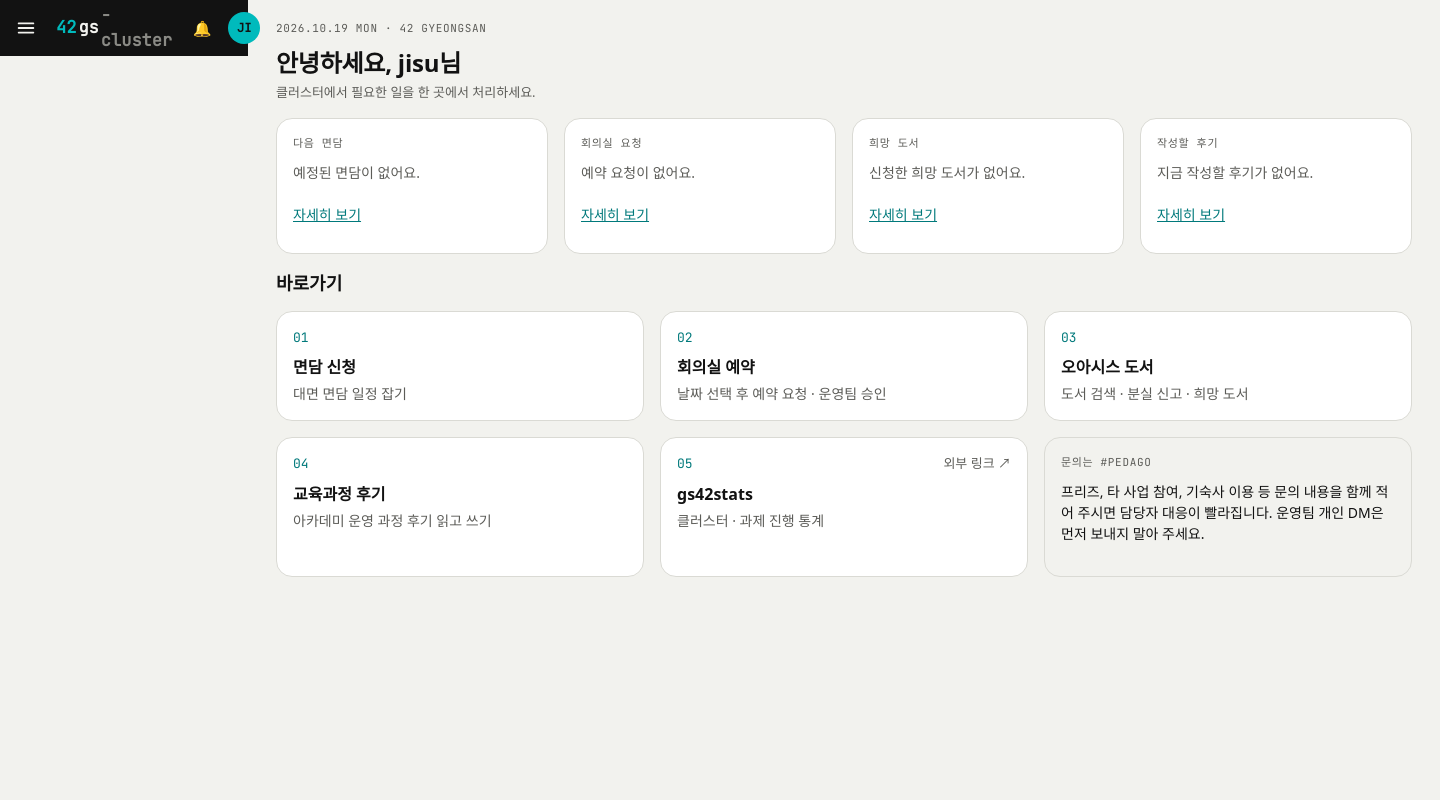
Test: 레이아웃: 모바일(≤900px) › 메뉴 버튼으로 드로어를 열고, 항목을 누르면 이동하며 닫힌다
Step 1. Click the button named "메뉴 열기" → (26, 28), box [4,6,48,50]
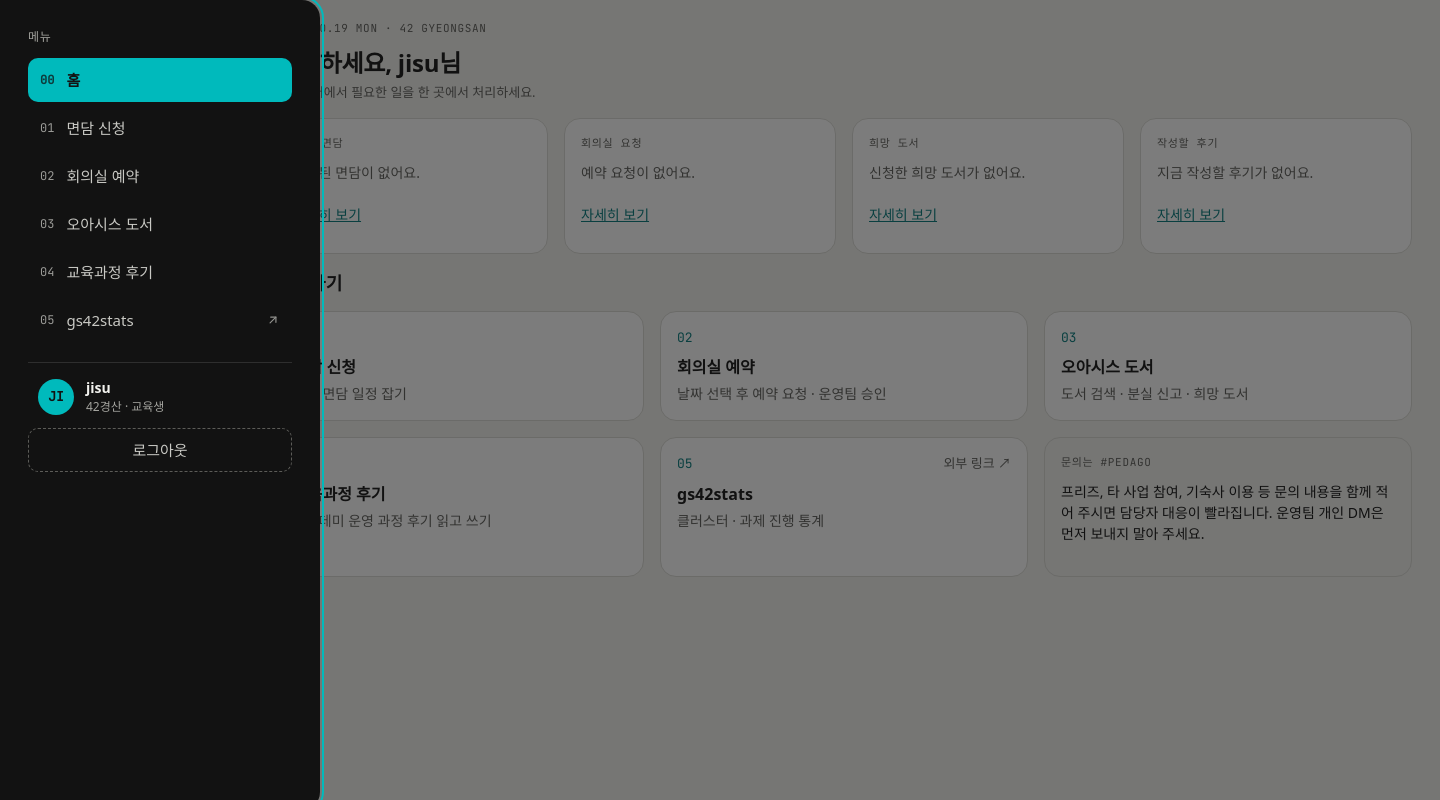
Step 2. Click the link "02 회의실 예약" → (90, 176), box [40,166,139,186]
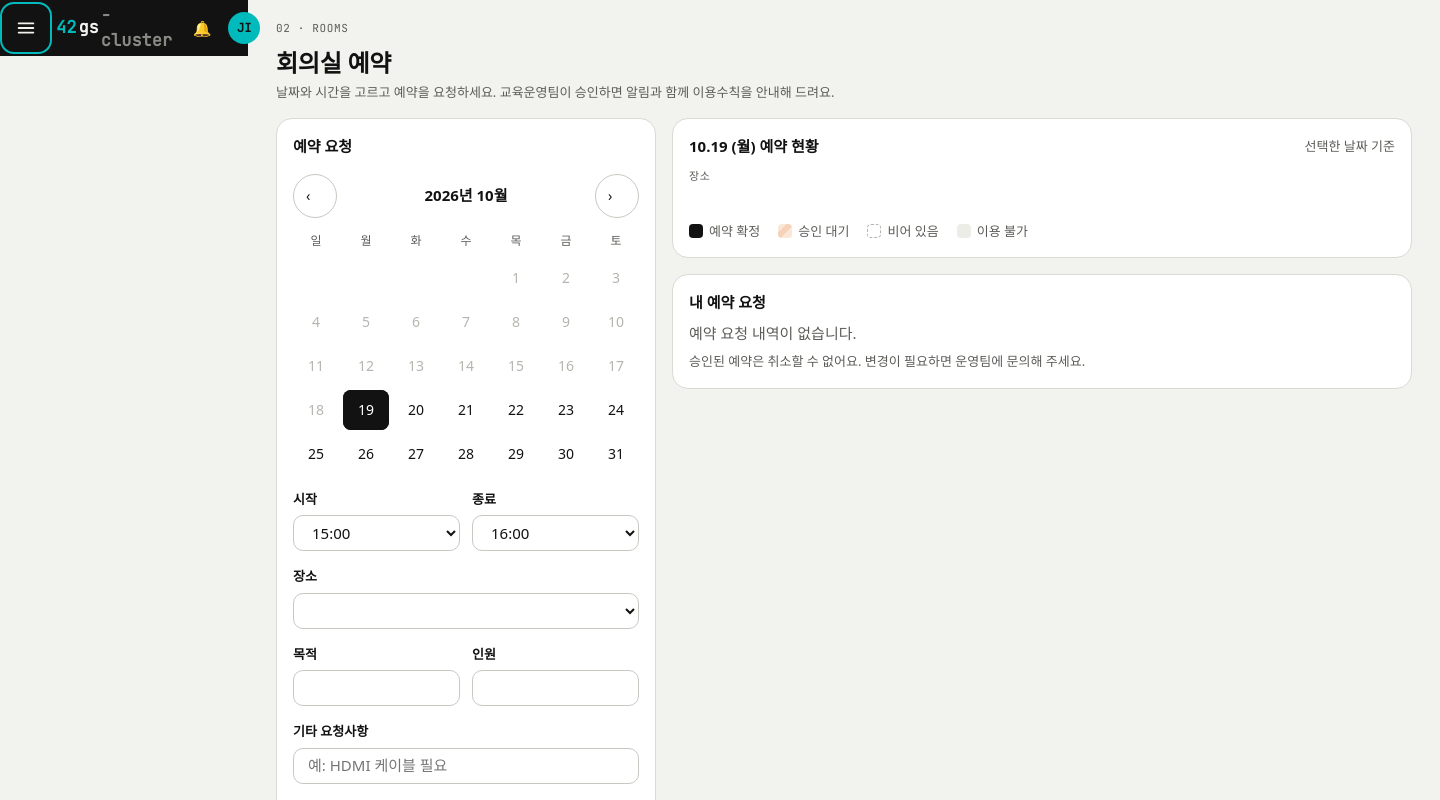
expect the heading "메뉴" is gone: met
